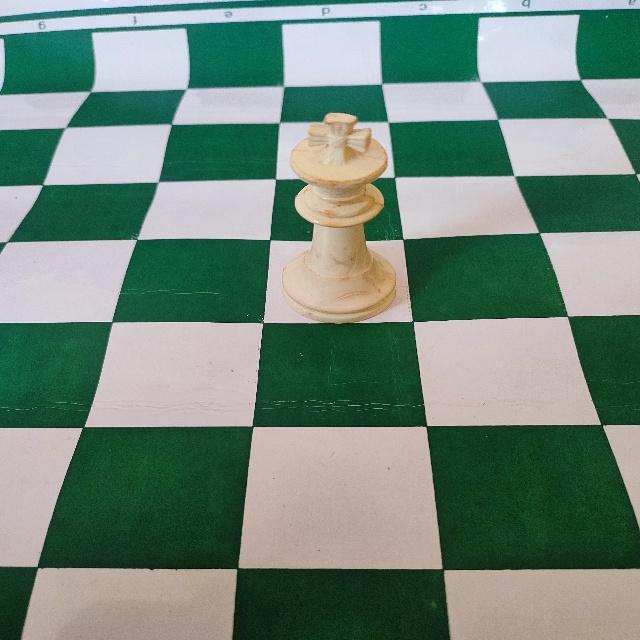King: (277, 108, 400, 324)
